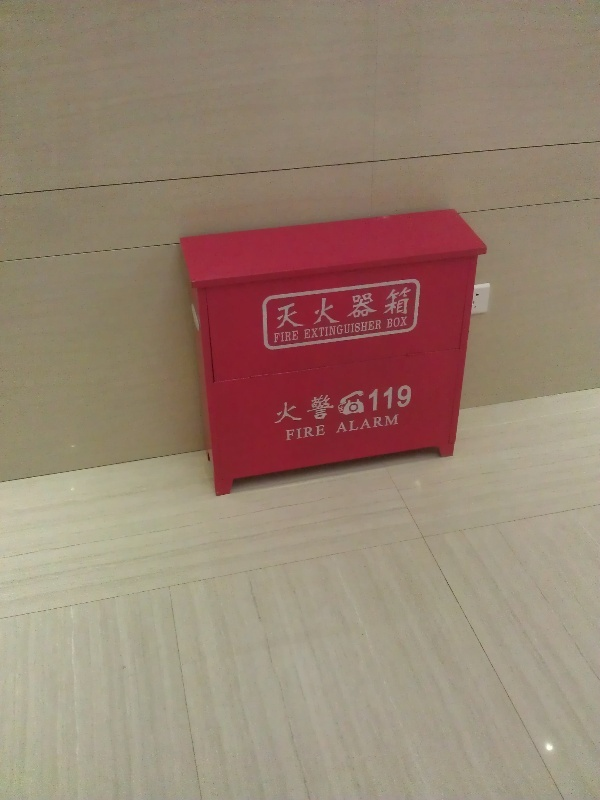text: (289, 287, 304, 330), (305, 287, 320, 330), (321, 287, 336, 330), (337, 287, 352, 330), (353, 287, 368, 330), (369, 287, 384, 330), (385, 287, 400, 330), (275, 287, 288, 330), (289, 393, 304, 426), (305, 393, 320, 426), (321, 393, 336, 426), (401, 287, 412, 330), (274, 393, 288, 426), (369, 383, 384, 412), (385, 383, 400, 412), (401, 383, 413, 412), (337, 414, 352, 434), (353, 414, 368, 434), (369, 414, 384, 434), (385, 414, 400, 434), (305, 319, 320, 339), (321, 319, 336, 339), (337, 319, 352, 339), (353, 319, 368, 339), (369, 319, 383, 339), (289, 424, 304, 442), (305, 424, 320, 442), (274, 330, 288, 344), (386, 316, 400, 329), (289, 330, 300, 344), (321, 424, 328, 442), (401, 316, 409, 329), (284, 424, 288, 442), (303, 319, 304, 339)
